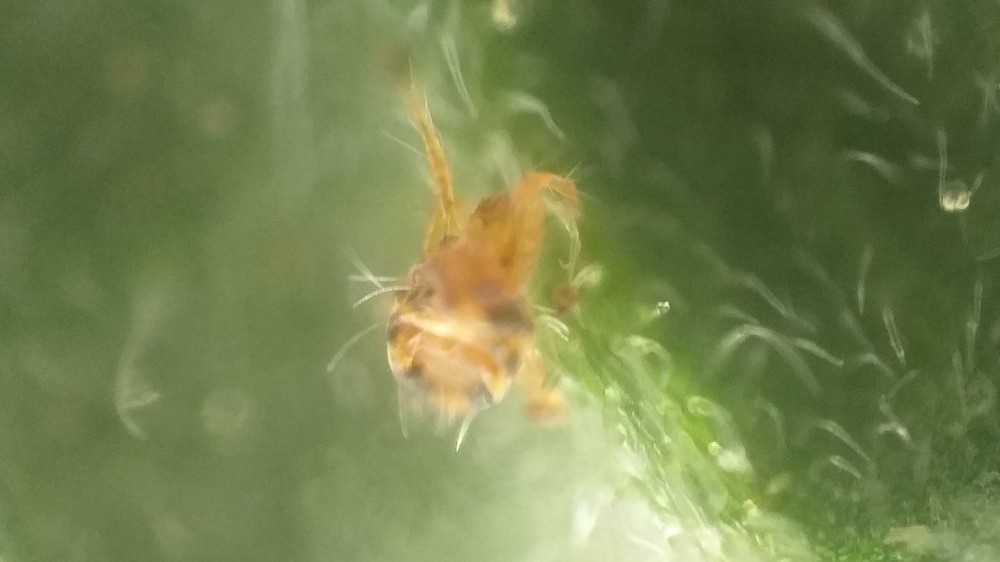Aracnido Rojo: (362, 64, 607, 460)
